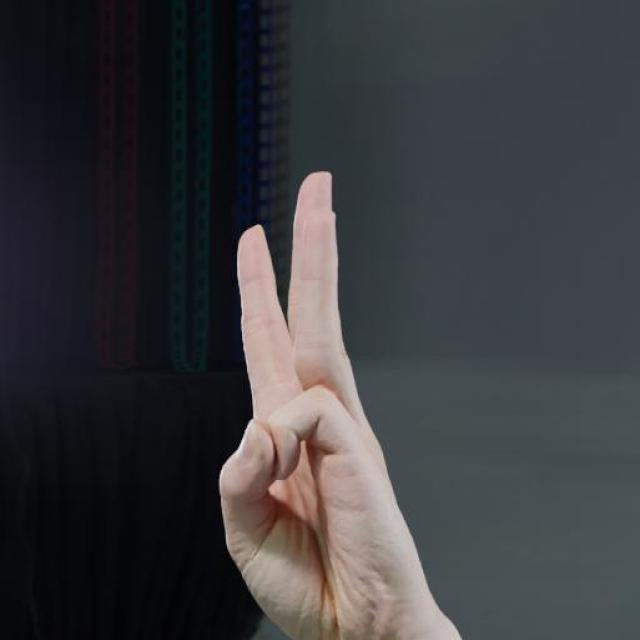W: (214, 168, 460, 628)
